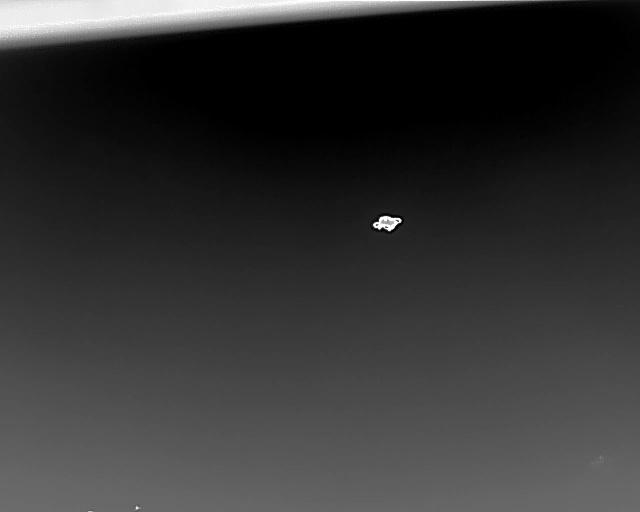fpv-drone: (371, 214, 403, 232)
